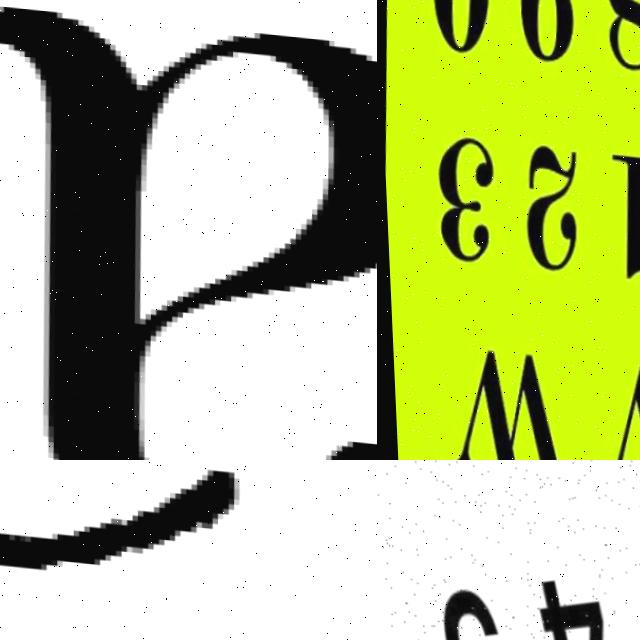0: (418, 0, 496, 78)
1: (593, 137, 640, 296)
2: (0, 460, 377, 613), (510, 137, 589, 283)
3: (428, 123, 500, 269)
4: (513, 550, 640, 640)
5: (411, 572, 537, 640)
8: (587, 0, 640, 87)
9: (501, 0, 584, 86)
A: (0, 0, 377, 460)
